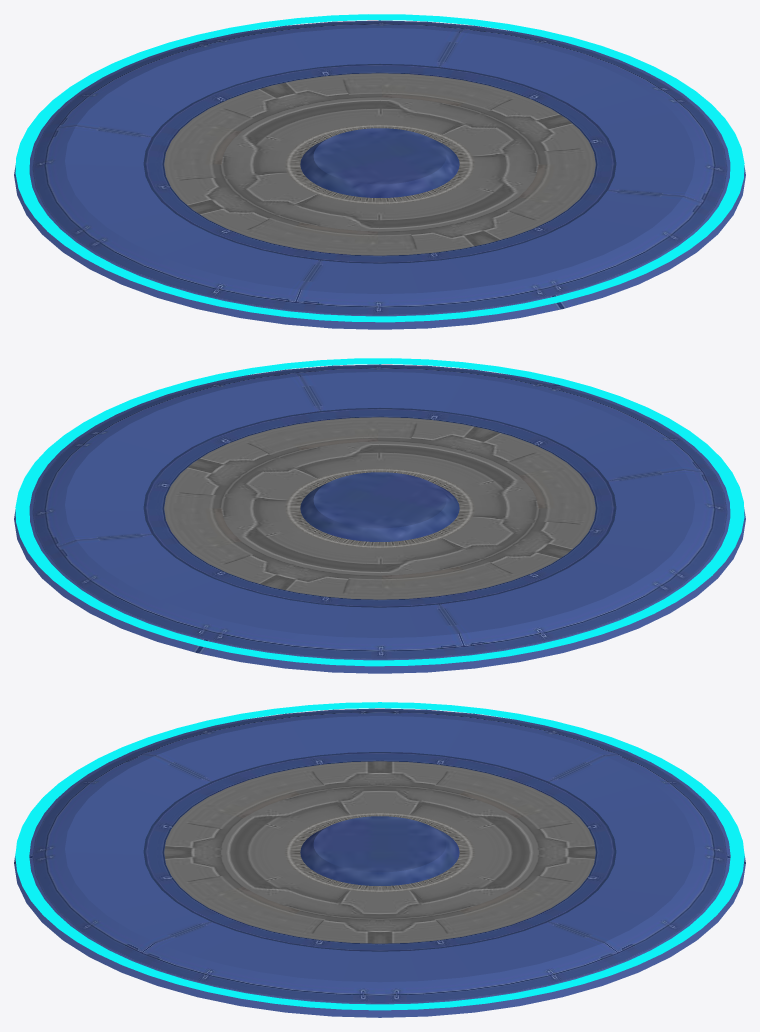
File: plataforma_mando.glb
3 renders of one model, top to bottom at view 1: azimuth 30°, elevation 25°; view 2: azimuth 150°, elevation 25°; view 3: azimuth 270°, elevation 25°, orthographic.
Parts seen in each view (by area): view 1: Plataforma_Mando; view 2: Plataforma_Mando; view 3: Plataforma_Mando.
Part boxes in pixels (x1,y1,x2,y2): Plataforma_Mando: (14, 14, 745, 329); Plataforma_Mando: (14, 358, 745, 673); Plataforma_Mando: (14, 702, 745, 1017).
Size of the model in its own units: 5.99 by 0.1702 by 5.99.
3 materials, 2 textured.
